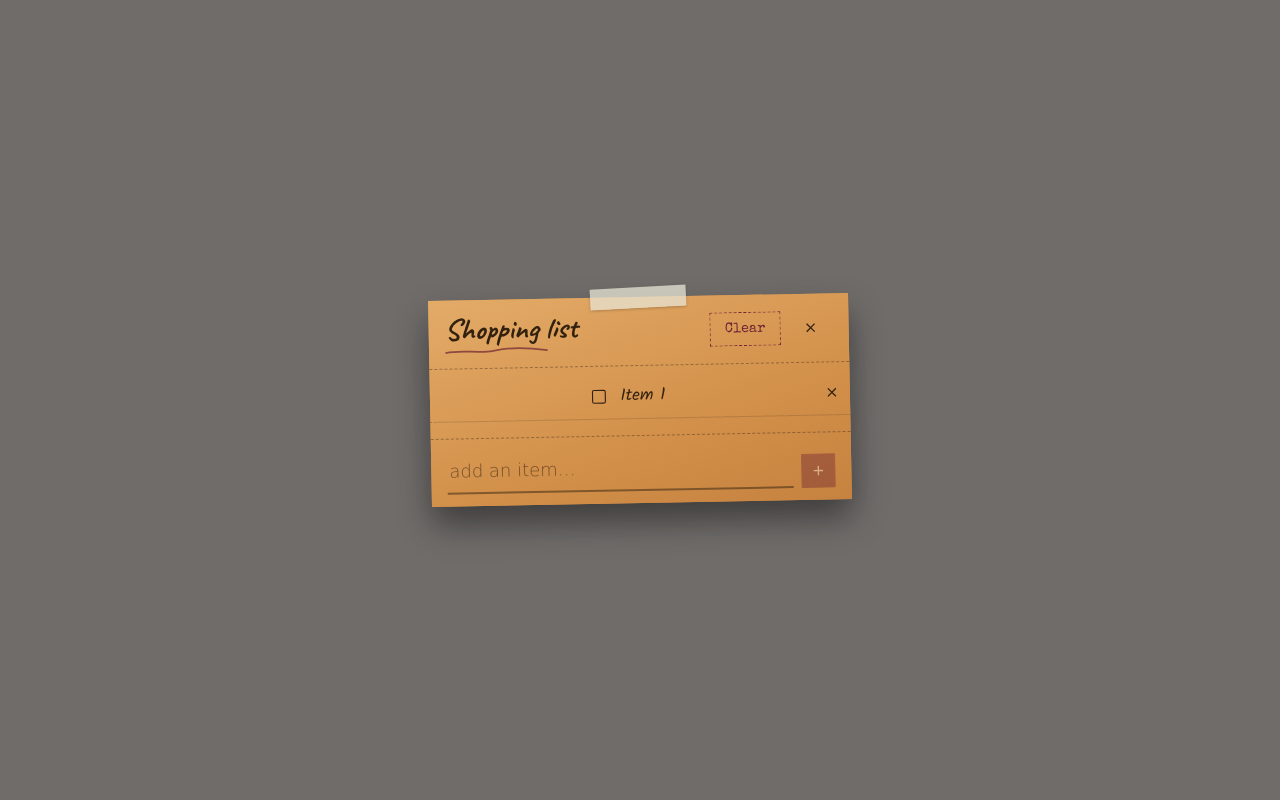
Test case: clearing the list › asks before emptying anything
Click the button with test id "shopping-clear" at (745, 329), box [710,311,781,347]
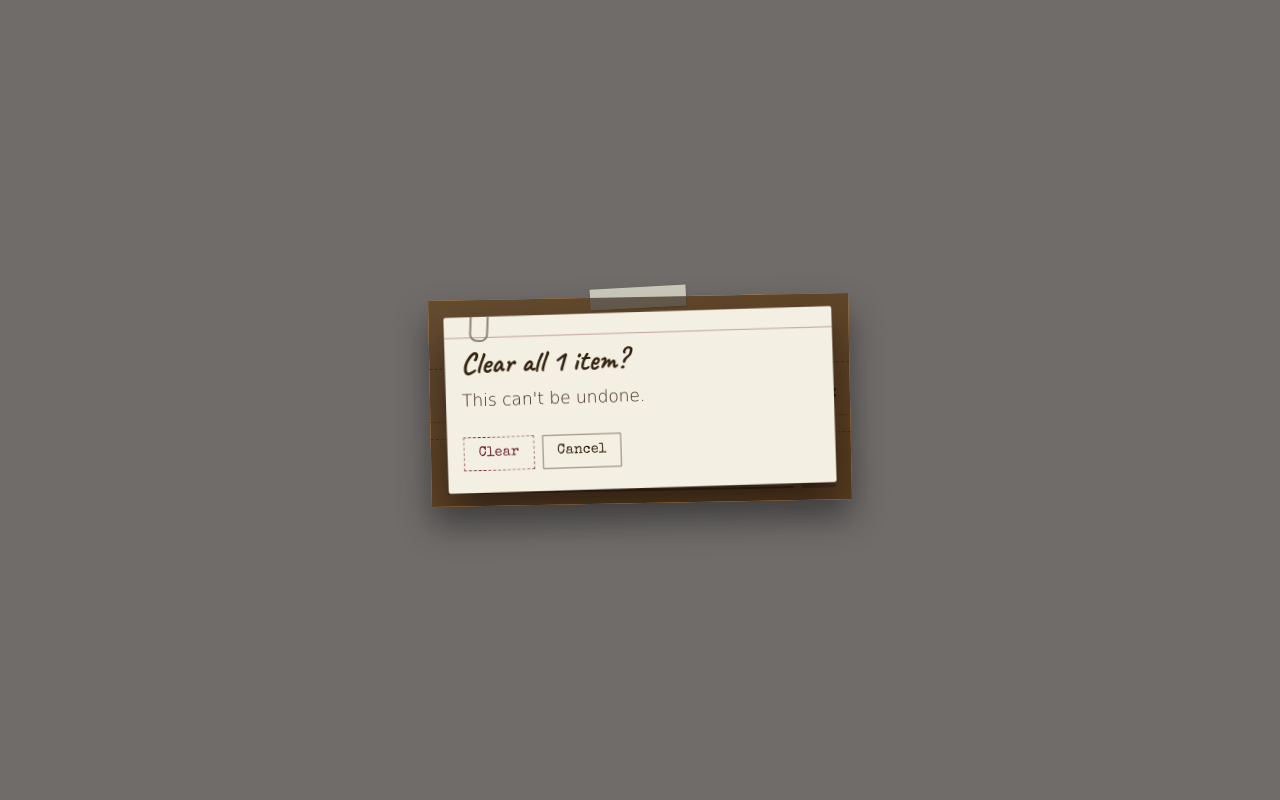
Expected: the button with test id "clear-confirm" is shown, [463,435,535,471]
